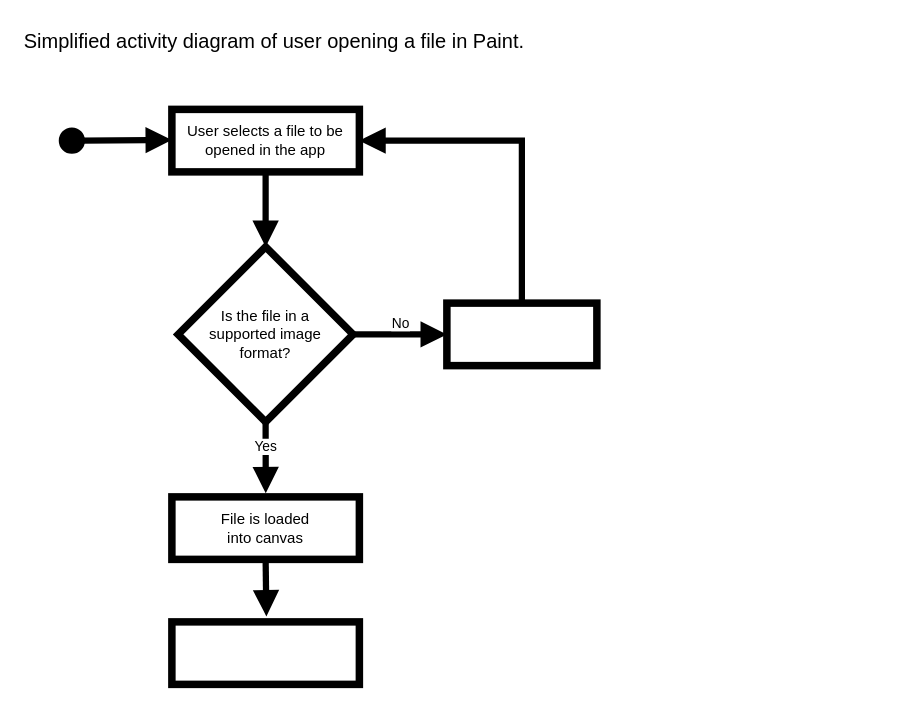
The diagram is 905 pixels wide and 709 high, and some of its shapes have lost their labels. The shapes that lost their labels are listed below. From the top down, each one's centre as x and y in pixels, then its label:
(x=521, y=334): Invalid file type
(x=265, y=653): User can now edit the image
